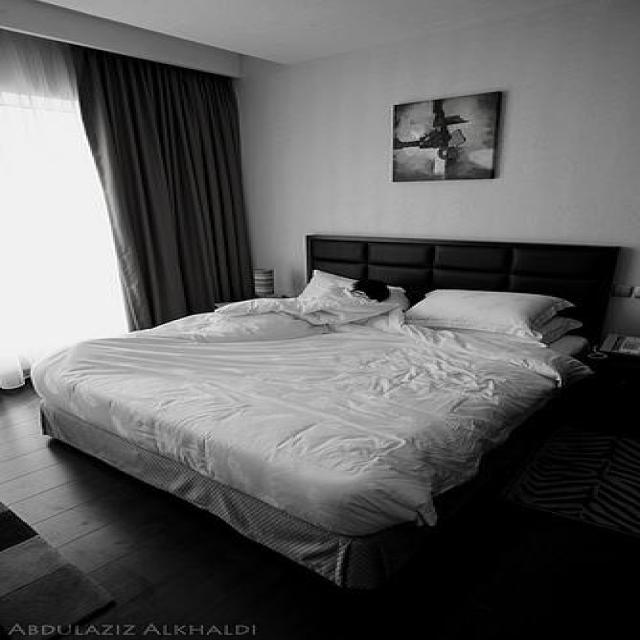bed: (29, 233, 621, 589)
